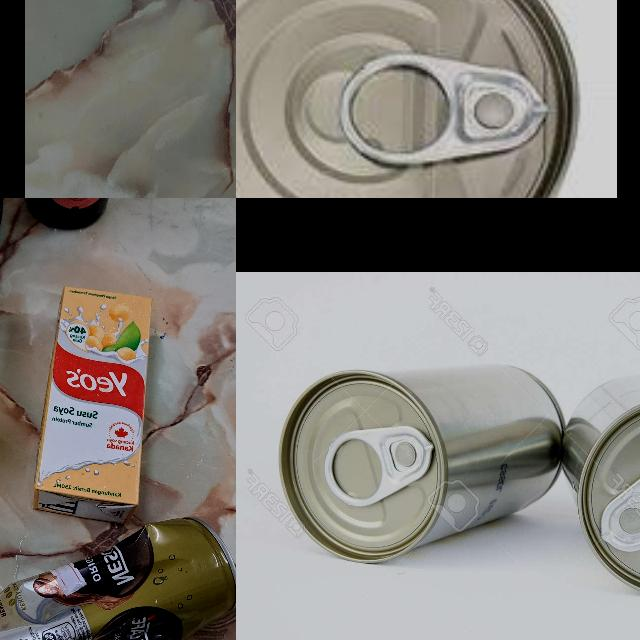aba de lata: (338, 53, 548, 169), (326, 424, 432, 510), (598, 450, 640, 552)
caixinha: (32, 290, 158, 520)
garrafa de vidro: (24, 198, 154, 239)
lata: (236, 0, 583, 198), (276, 362, 568, 566), (0, 515, 236, 640), (568, 376, 640, 597)
